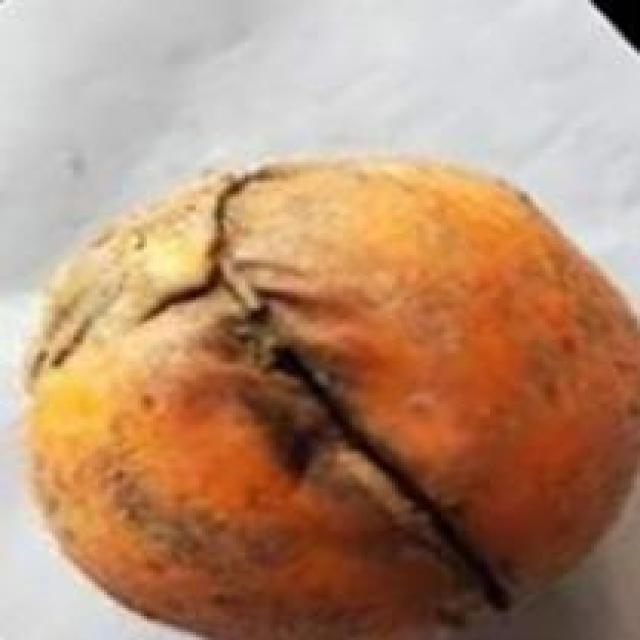damaged: (24, 151, 637, 637)
